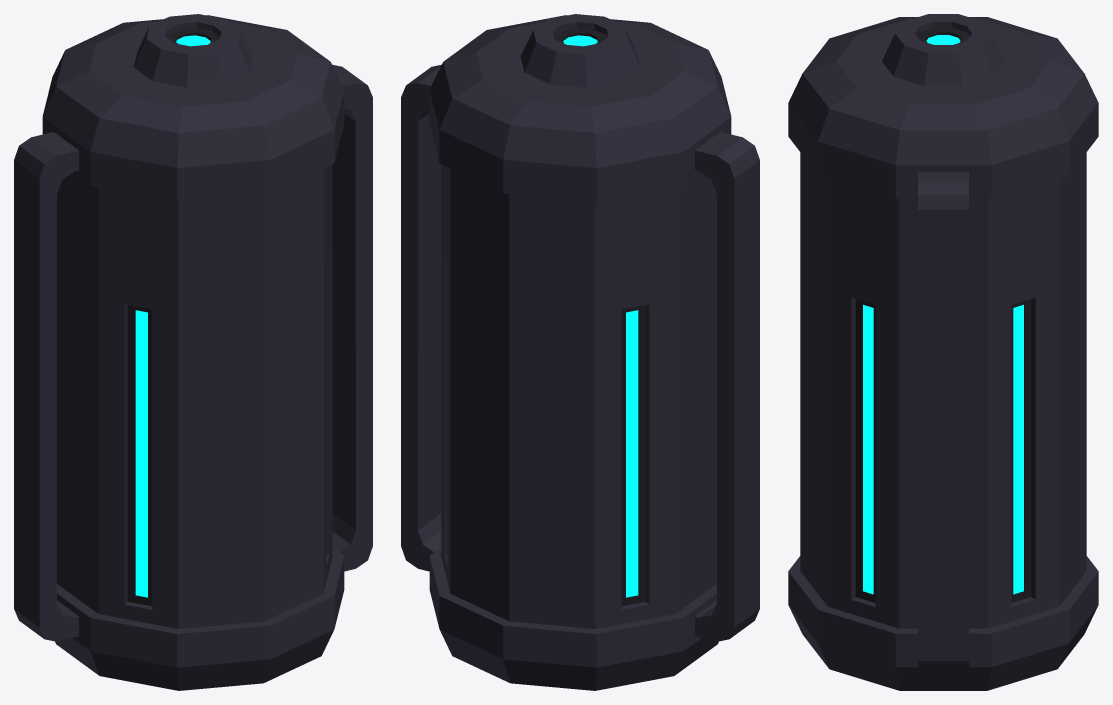
The model's file is SM_Cellule_Compact.fbx.
The picture shows the model from 3 angles, left to right: view 1: azimuth 30°, elevation 25°; view 2: azimuth 150°, elevation 25°; view 3: azimuth 270°, elevation 25°; orthographic projection.
Visible parts, largest first — view 1: SM_Cellule_Compact; view 2: SM_Cellule_Compact; view 3: SM_Cellule_Compact.
Part boxes in pixels (x1,y1,x2,y2): SM_Cellule_Compact: (14, 14, 372, 690); SM_Cellule_Compact: (401, 14, 759, 690); SM_Cellule_Compact: (788, 14, 1098, 690).
Size of the model in its own units: 37.44 by 65.43 by 30.02.
